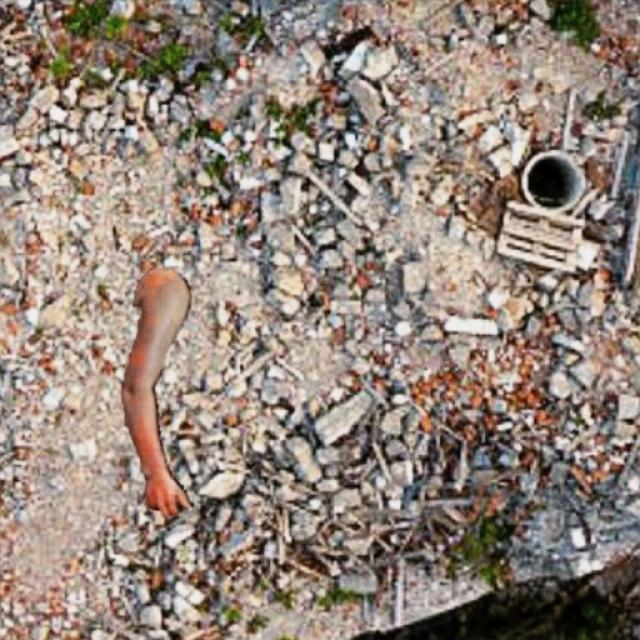Person in Rubble: (121, 266, 192, 515)
